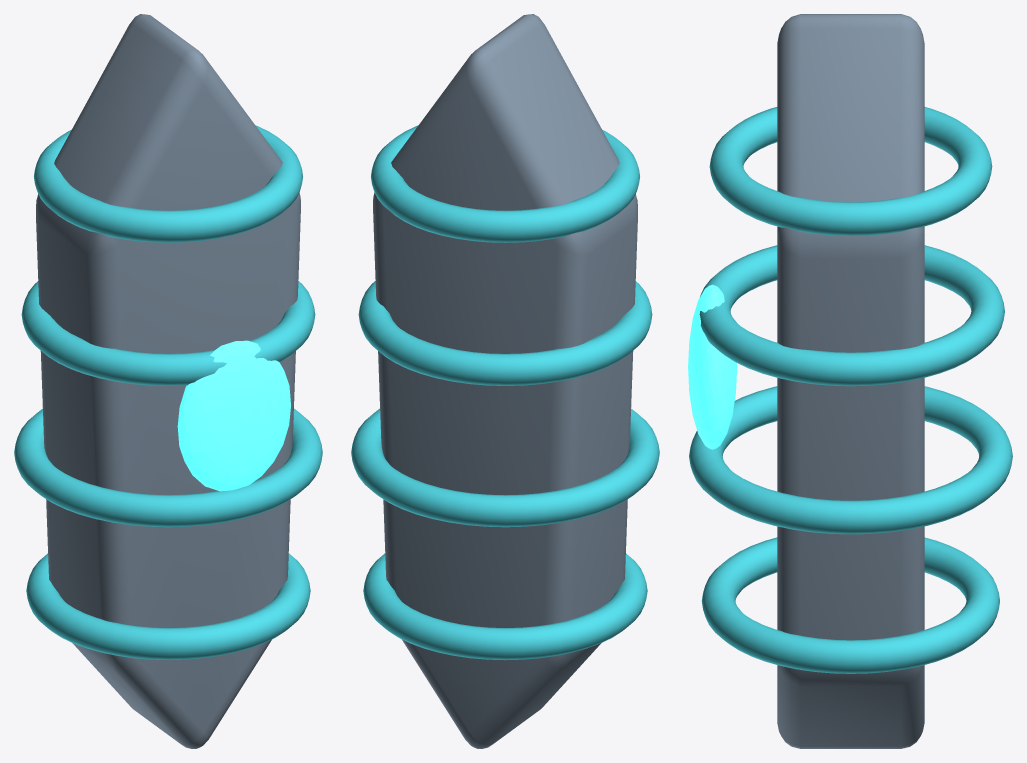
The model's file is construct_v8.glb.
3 renders of one model, left to right at view 1: azimuth 30°, elevation 25°; view 2: azimuth 150°, elevation 25°; view 3: azimuth 270°, elevation 25°, orthographic. The views are drawn at different scales.
Visible parts, largest first — view 1: OBELISK_PRIMARY, OBELISK_CORE_EMISSIVE, OBELISK_RING_ACCENT.001, OBELISK_RING_ACCENT, OBELISK_RING_ACCENT.003, OBELISK_RING_ACCENT.002; view 2: OBELISK_PRIMARY, OBELISK_RING_ACCENT.001, OBELISK_RING_ACCENT.002, OBELISK_RING_ACCENT, OBELISK_RING_ACCENT.003; view 3: OBELISK_PRIMARY, OBELISK_RING_ACCENT.001, OBELISK_RING_ACCENT.002, OBELISK_RING_ACCENT, OBELISK_RING_ACCENT.003, OBELISK_CORE_EMISSIVE.
Part boxes in pixels (bbox=[...]): OBELISK_PRIMARY: bbox=[36, 14, 300, 748]; OBELISK_CORE_EMISSIVE: bbox=[177, 340, 290, 491]; OBELISK_RING_ACCENT.001: bbox=[14, 408, 322, 527]; OBELISK_RING_ACCENT: bbox=[26, 553, 310, 660]; OBELISK_RING_ACCENT.003: bbox=[34, 125, 302, 242]; OBELISK_RING_ACCENT.002: bbox=[21, 281, 315, 385]; OBELISK_PRIMARY: bbox=[373, 14, 637, 748]; OBELISK_RING_ACCENT.001: bbox=[351, 408, 659, 527]; OBELISK_RING_ACCENT.002: bbox=[358, 281, 652, 385]; OBELISK_RING_ACCENT: bbox=[363, 553, 647, 660]; OBELISK_RING_ACCENT.003: bbox=[371, 125, 639, 242]; OBELISK_PRIMARY: bbox=[777, 14, 924, 748]; OBELISK_RING_ACCENT.001: bbox=[689, 386, 1012, 534]; OBELISK_RING_ACCENT.002: bbox=[699, 245, 1004, 386]; OBELISK_RING_ACCENT: bbox=[701, 537, 999, 673]; OBELISK_RING_ACCENT.003: bbox=[709, 107, 992, 235]; OBELISK_CORE_EMISSIVE: bbox=[688, 284, 737, 449].
Size of the model in its own units: 0.8221 by 2.05 by 0.8245.
